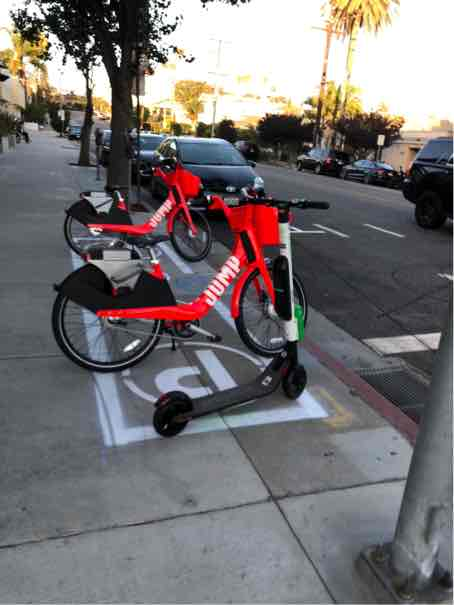scooter: (152, 193, 332, 432)
